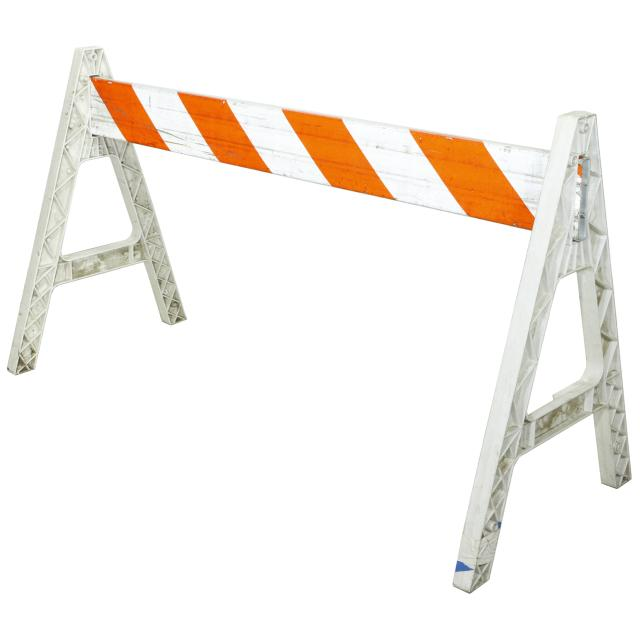cone: (6, 45, 632, 593)
